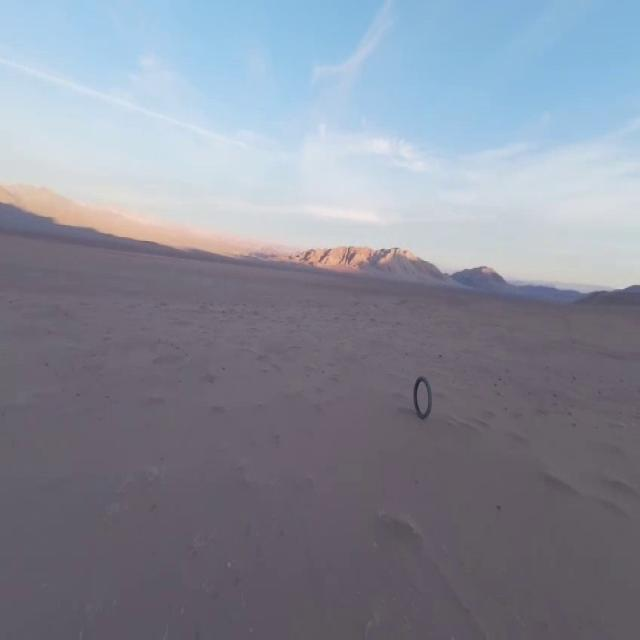Tire: (414, 376, 432, 419)
